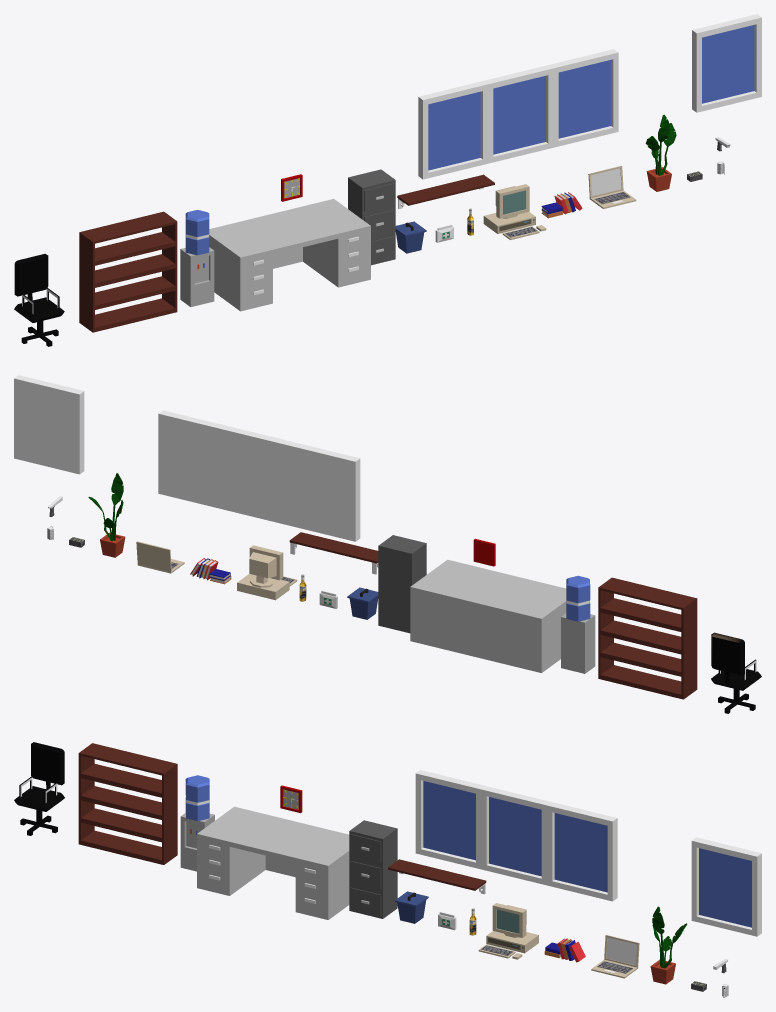
The model's file is ConjutnoObjetosV3.fbx.
3 views of the same model, one above another, from view 1: azimuth 30°, elevation 25°; view 2: azimuth 150°, elevation 25°; view 3: azimuth 330°, elevation 25° (orthographic).
Parts seen in each view (by area): view 1: Ventana3, Escritorio, Librero, Ventana1, Archiver, Garrafon, Silla, Compu, Laptop, Estante1, Maceta, BoteBasura (+1 smaller); view 2: Ventana3, Escritorio, Librero, Ventana1, Archiver, Garrafon, Silla, Compu, Estante1, Maceta, Laptop, BoteBasura (+1 smaller); view 3: Ventana3, Escritorio, Librero, Ventana1, Archiver, Silla, Compu, Garrafon, Laptop, Estante1, Maceta, BoteBasura (+2 smaller).
Boxes of the visible parts, left/top/right/bottom form: Ventana3: left=418, top=49, right=618, bottom=179; Escritorio: left=209, top=199, right=370, bottom=311; Librero: left=79, top=211, right=177, bottom=332; Ventana1: left=692, top=14, right=761, bottom=112; Archiver: left=348, top=169, right=395, bottom=265; Garrafon: left=180, top=210, right=214, bottom=306; Silla: left=14, top=253, right=64, bottom=346; Compu: left=483, top=184, right=546, bottom=239; Laptop: left=588, top=166, right=636, bottom=208; Estante1: left=397, top=174, right=494, bottom=208; Maceta: left=645, top=114, right=676, bottom=191; BoteBasura: left=395, top=221, right=426, bottom=253; Ventana3: left=158, top=410, right=360, bottom=541; Escritorio: left=410, top=559, right=566, bottom=672; Librero: left=598, top=577, right=697, bottom=699; Ventana1: left=14, top=375, right=84, bottom=474; Archiver: left=378, top=535, right=426, bottom=633; Garrafon: left=561, top=575, right=595, bottom=673; Silla: left=711, top=632, right=761, bottom=713; Compu: left=237, top=545, right=297, bottom=600; Estante1: left=289, top=532, right=378, bottom=574; Maceta: left=88, top=473, right=125, bottom=557; Laptop: left=136, top=541, right=184, bottom=573; BoteBasura: left=347, top=587, right=378, bottom=619; Ventana3: left=415, top=770, right=617, bottom=901; Escritorio: left=197, top=806, right=349, bottom=919; Librero: left=78, top=743, right=177, bottom=864; Ventana1: left=691, top=837, right=761, bottom=936; Archiver: left=349, top=820, right=397, bottom=918; Silla: left=14, top=742, right=64, bottom=835; Compu: left=478, top=903, right=538, bottom=959; Garrafon: left=180, top=775, right=214, bottom=871; Laptop: left=591, top=935, right=639, bottom=978; Estante1: left=388, top=859, right=486, bottom=894; Maceta: left=650, top=906, right=687, bottom=984; BoteBasura: left=395, top=891, right=428, bottom=923.
Bounding box in the file's own units: 2791 × 545 × 247.
